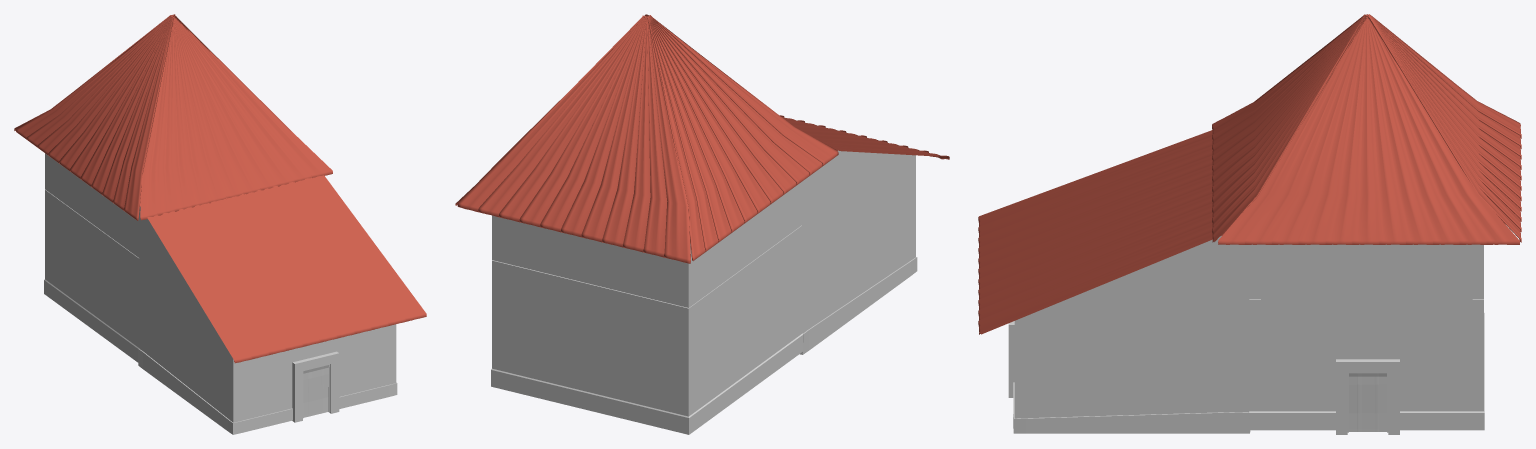
File: TownHouse3.fbx
3 renders of one model, left to right at view 1: azimuth 30°, elevation 25°; view 2: azimuth 150°, elevation 25°; view 3: azimuth 270°, elevation 25°, orthographic. The views are drawn at different scales.
Parts seen in each view (by area): view 1: Roof.004, Cube.005, Roof, Roof.003, Cube.001, Cube.003, Cube.004, Grid.001, Cube.007, Cube.006; view 2: Roof.001, Cube.001, Roof.003, Cube.005, Cube.003, Cube.004, Roof.004; view 3: Cube.005, Roof.002, Roof.004, Cube.001, Cube.004, Roof, Roof.001, Cube.003, Grid.005, Cube.039, Cube.040, Cube.041 (+1 smaller).
Part boxes in pixels (x1=…): Roof.004: x1=140, y1=175, x2=426, y2=363; Cube.005: x1=138, y1=206, x2=397, y2=434; Roof: x1=140, y1=16, x2=332, y2=220; Roof.003: x1=16, y1=15, x2=173, y2=220; Cube.001: x1=45, y1=189, x2=139, y2=321; Cube.003: x1=44, y1=253, x2=139, y2=362; Cube.004: x1=45, y1=153, x2=139, y2=257; Grid.001: x1=303, y1=364, x2=330, y2=418; Cube.007: x1=292, y1=360, x2=302, y2=422; Cube.006: x1=329, y1=351, x2=339, y2=413; Roof.001: x1=457, y1=15, x2=690, y2=263; Cube.001: x1=492, y1=225, x2=802, y2=384; Roof.003: x1=646, y1=15, x2=838, y2=260; Cube.005: x1=800, y1=150, x2=917, y2=354; Cube.003: x1=491, y1=302, x2=802, y2=434; Cube.004: x1=492, y1=182, x2=802, y2=307; Roof.004: x1=779, y1=115, x2=949, y2=159; Cube.005: x1=1013, y1=236, x2=1250, y2=433; Roof.002: x1=1218, y1=16, x2=1519, y2=244; Roof.004: x1=978, y1=130, x2=1234, y2=334; Cube.001: x1=1249, y1=299, x2=1483, y2=378; Cube.004: x1=1249, y1=244, x2=1483, y2=299; Roof: x1=1212, y1=14, x2=1366, y2=242; Roof.001: x1=1367, y1=14, x2=1521, y2=242; Cube.003: x1=1249, y1=313, x2=1484, y2=430; Grid.005: x1=1347, y1=372, x2=1388, y2=432; Cube.039: x1=1388, y1=359, x2=1399, y2=434; Cube.040: x1=1336, y1=359, x2=1347, y2=434; Cube.041: x1=1347, y1=359, x2=1388, y2=372.
Bounding box in the file's own units: 2402 × 3476 × 4633.
